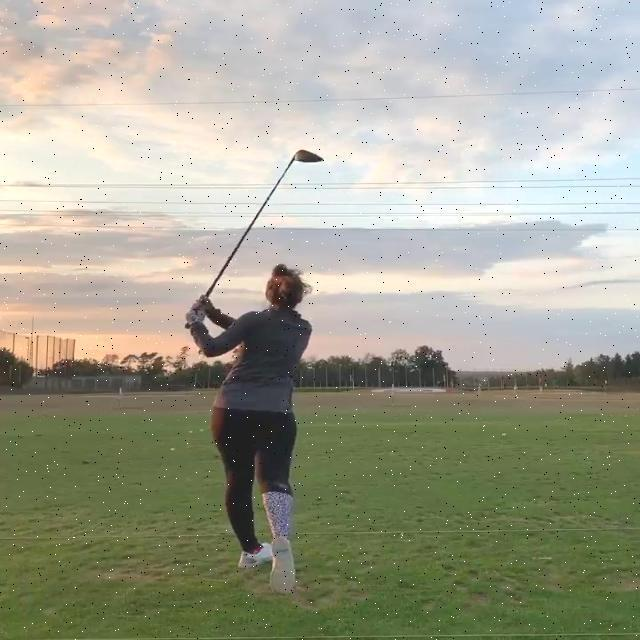ClubHead: (294, 146, 324, 164)
